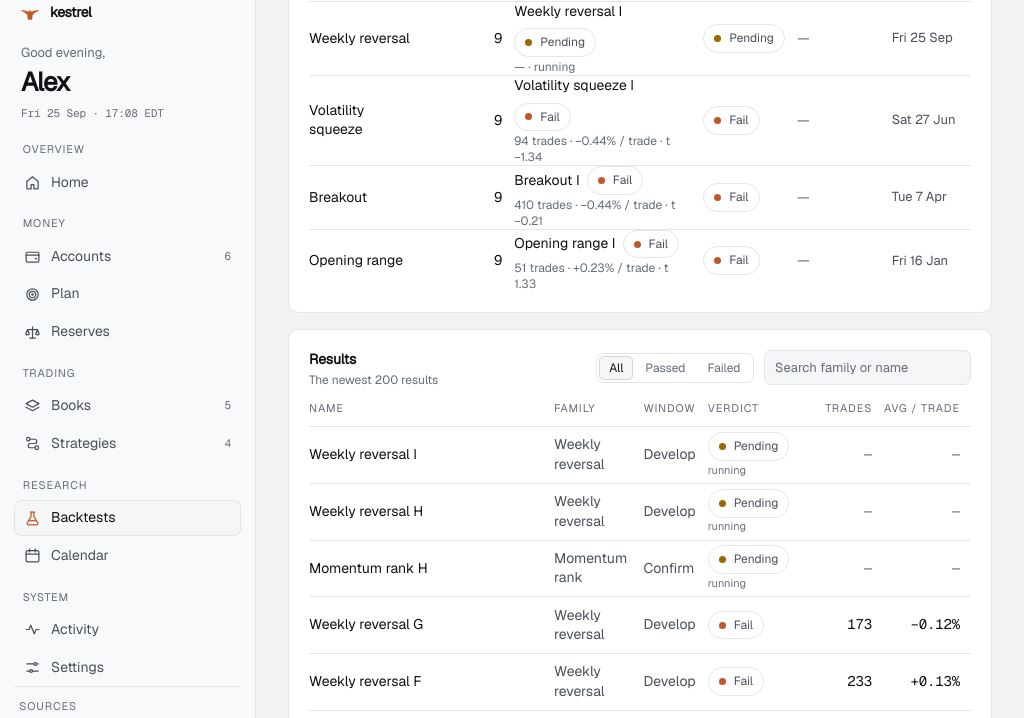
Backtests › narrows the results table by verdict (with proper words, via the shared Seg) and by a search term
(page scrolled)
Click the button "Passed" at (665, 368), box [635, 356, 696, 380]
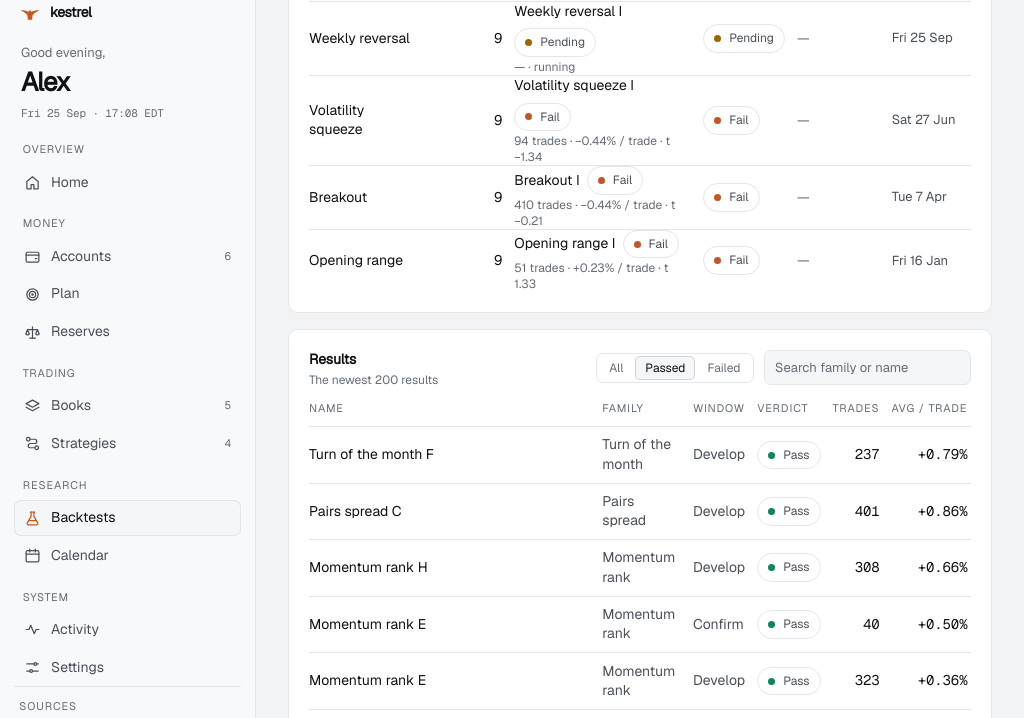
Click the button "All" at (616, 368), box [599, 356, 633, 380]
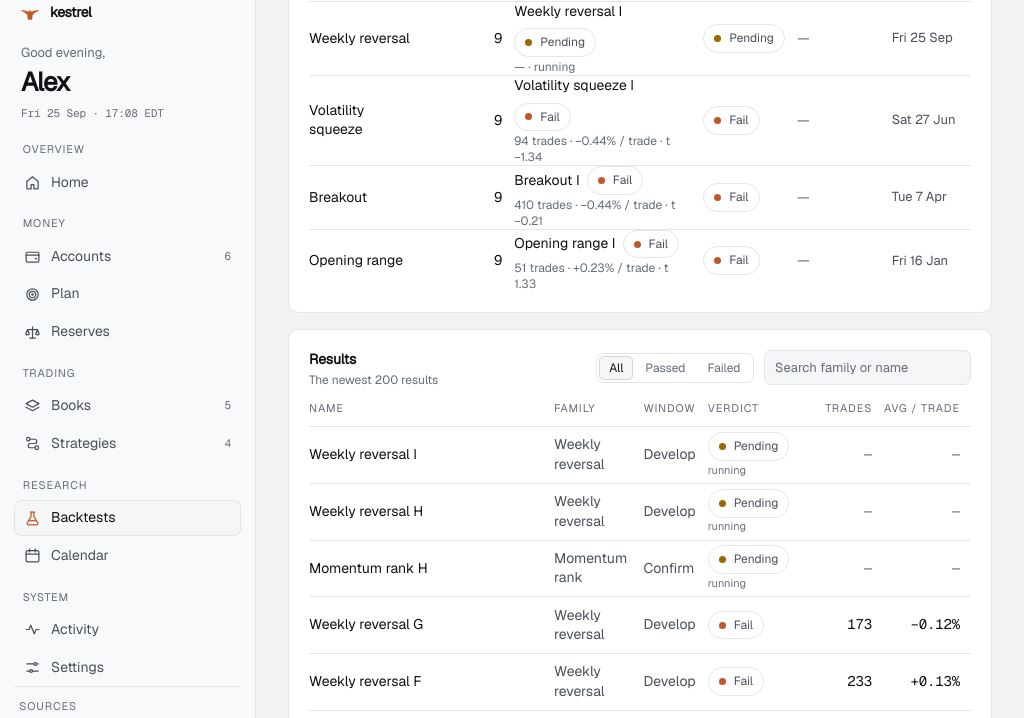
Type "dip buy" into the search field labelled "Search family or name" at (868, 368), box [764, 350, 971, 385]
(page scrolled)
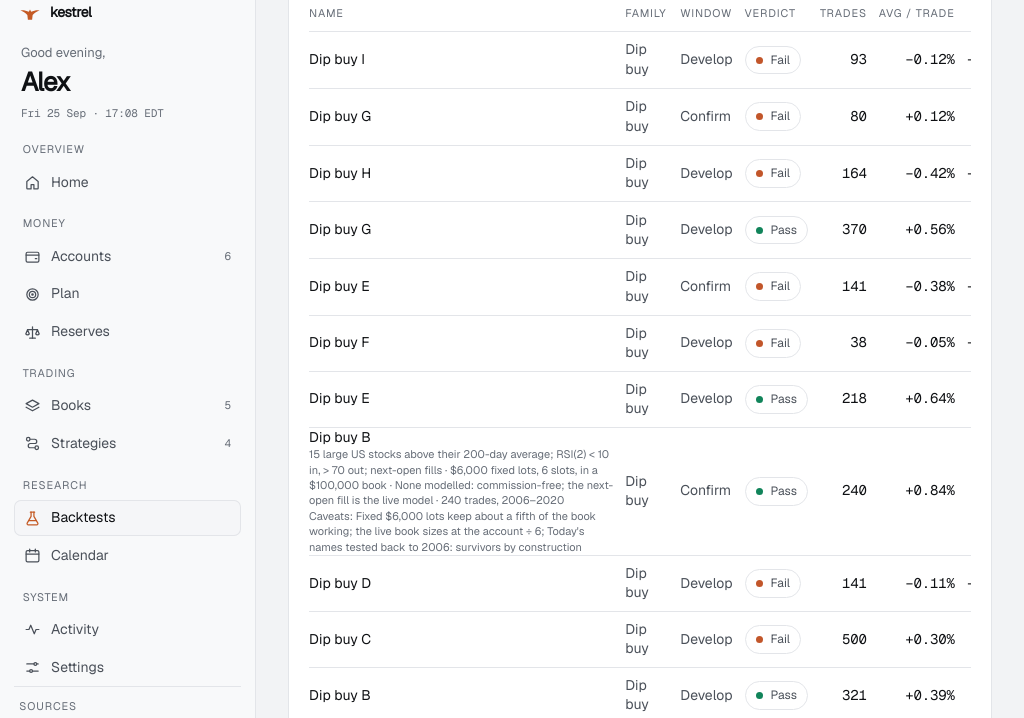
Now the element that starts with "Results" shows "Dip buy", box [625, 40, 649, 78]
